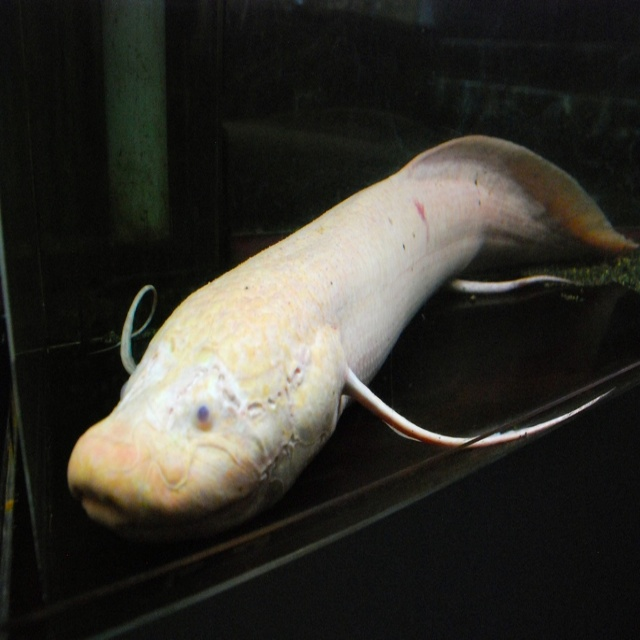Fish: (67, 134, 640, 541)
